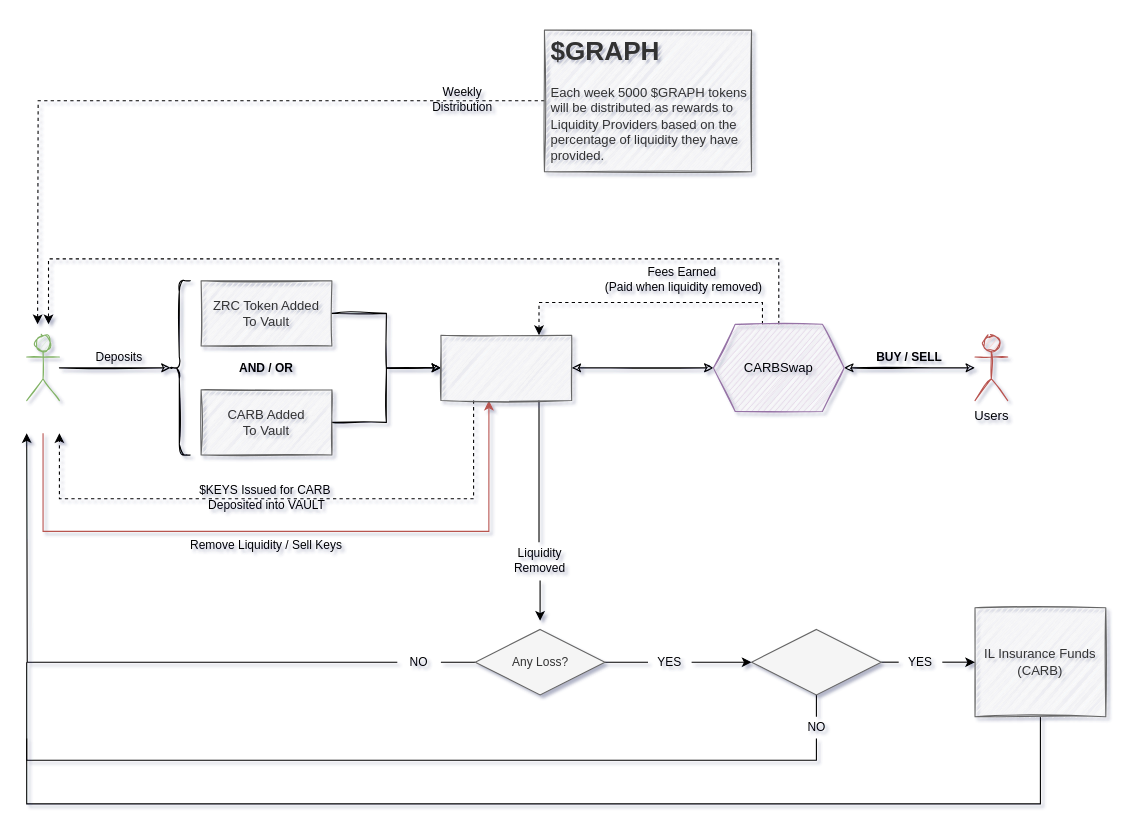
The diagram is 1131 pixels wide and 831 high, and some of its shapes have lost their labels. Here are the shapes that lost their labels. From the top down, the centre of each, then its label:
At (42,367): "LPer".
At (506,367): "ZRC2 & CARB VAULT".
At (815,661): "Has Insurance".
